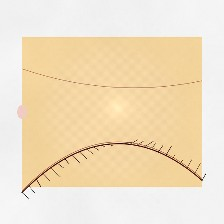pinguecula_lesion: (44, 95, 82, 125)
